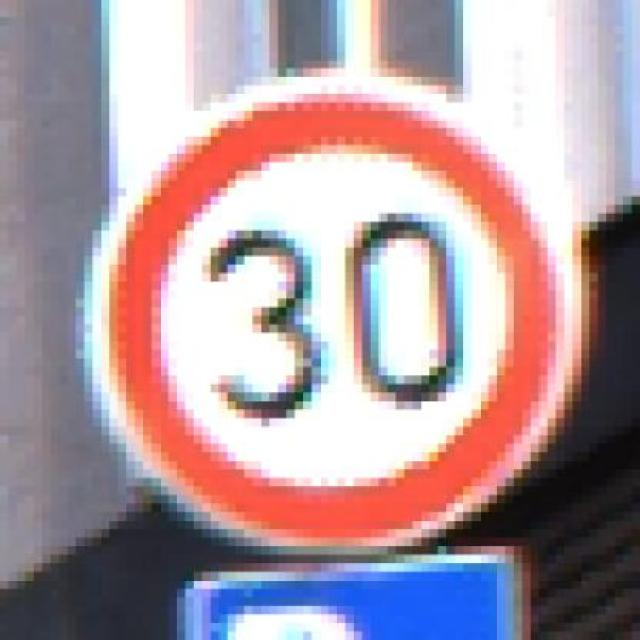Speed Limit 30 KMPh: (67, 51, 607, 546)
